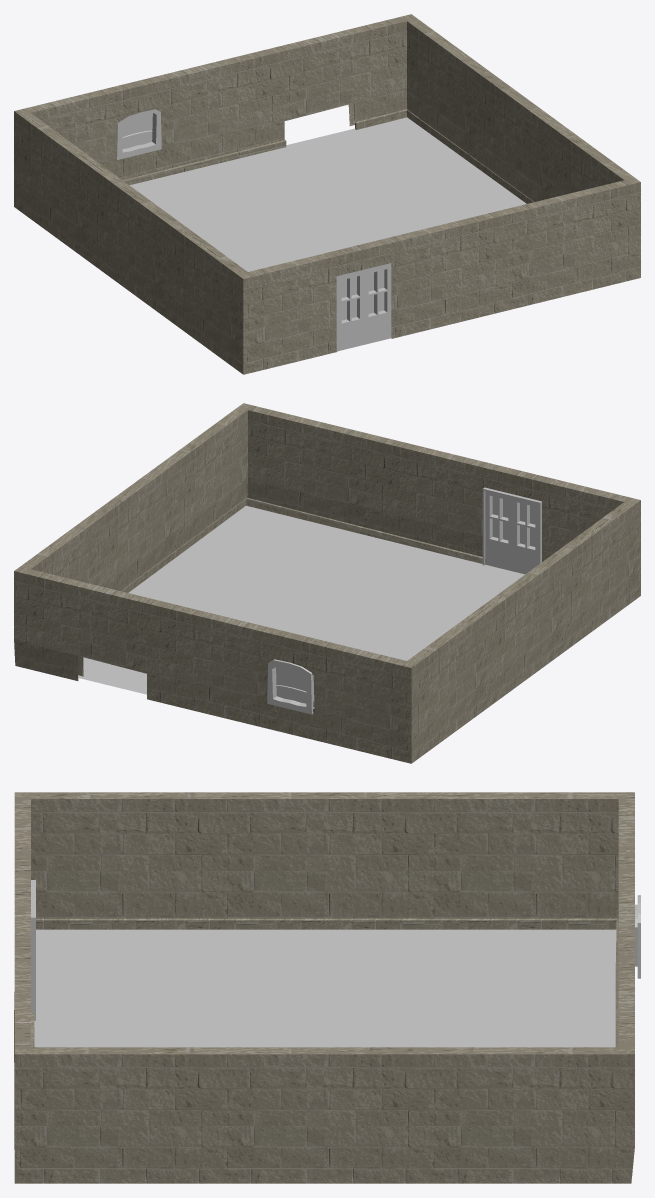
The model's file is House.FBX.
The picture shows the model from 3 angles, top to bottom: view 1: azimuth 30°, elevation 25°; view 2: azimuth 150°, elevation 25°; view 3: azimuth 270°, elevation 25°; orthographic projection. The views are drawn at different scales.
Parts seen in each view (by area): view 1: House, Ground, Door, Baseboard, Window; view 2: House, Ground, Door, Baseboard, Window; view 3: House, Ground, Baseboard, Door.
Boxes of the visible parts, box(x1,y1,x2,y2) form: House: box(14, 14, 640, 374); Ground: box(130, 117, 526, 271); Door: box(336, 263, 391, 351); Baseboard: box(123, 109, 533, 203); Window: box(117, 109, 161, 159); House: box(14, 403, 640, 763); Ground: box(78, 505, 524, 694); Door: box(482, 487, 541, 574); Baseboard: box(77, 498, 485, 676); Window: box(267, 659, 314, 714); House: box(14, 792, 634, 1183); Ground: box(31, 929, 616, 1047); Baseboard: box(31, 918, 618, 1047); Door: box(31, 880, 35, 1020).
Bounding box in the file's own units: 504 × 509 × 116.
